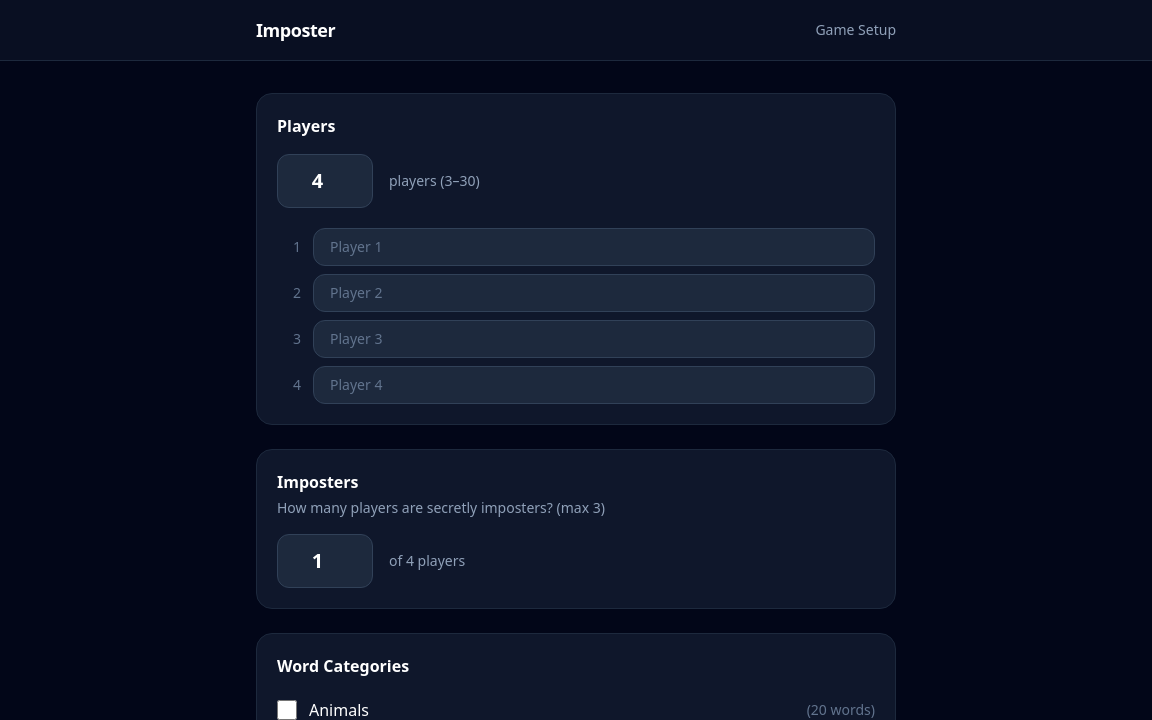
Game Setup Page › Start Game is disabled when player count is below 3
The image size is (1152, 720).
Step 1. Click the checkbox labelled "Animals (20 words)" → (287, 710), box [277,700,297,719]
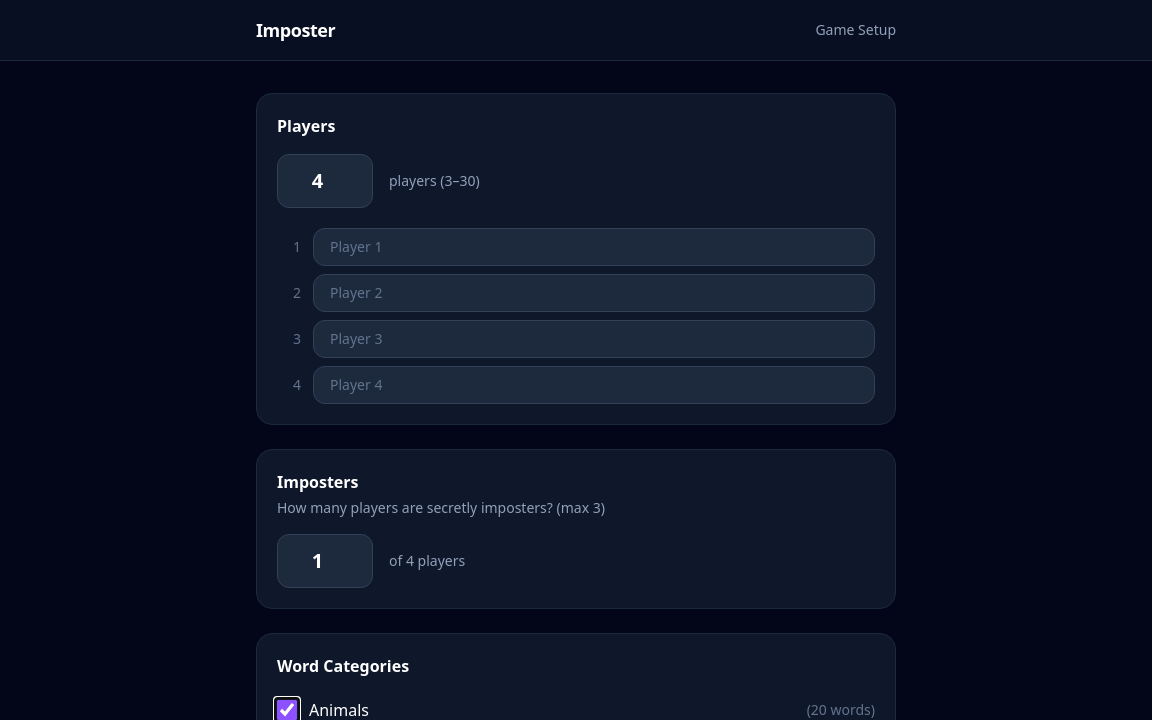
// Drop player count below minimum via fireEvent (more reliable for number inputs)
Step 2. Replace the text in the number field named "Number of players" with "2" → (325, 181), box [277,154,373,208]
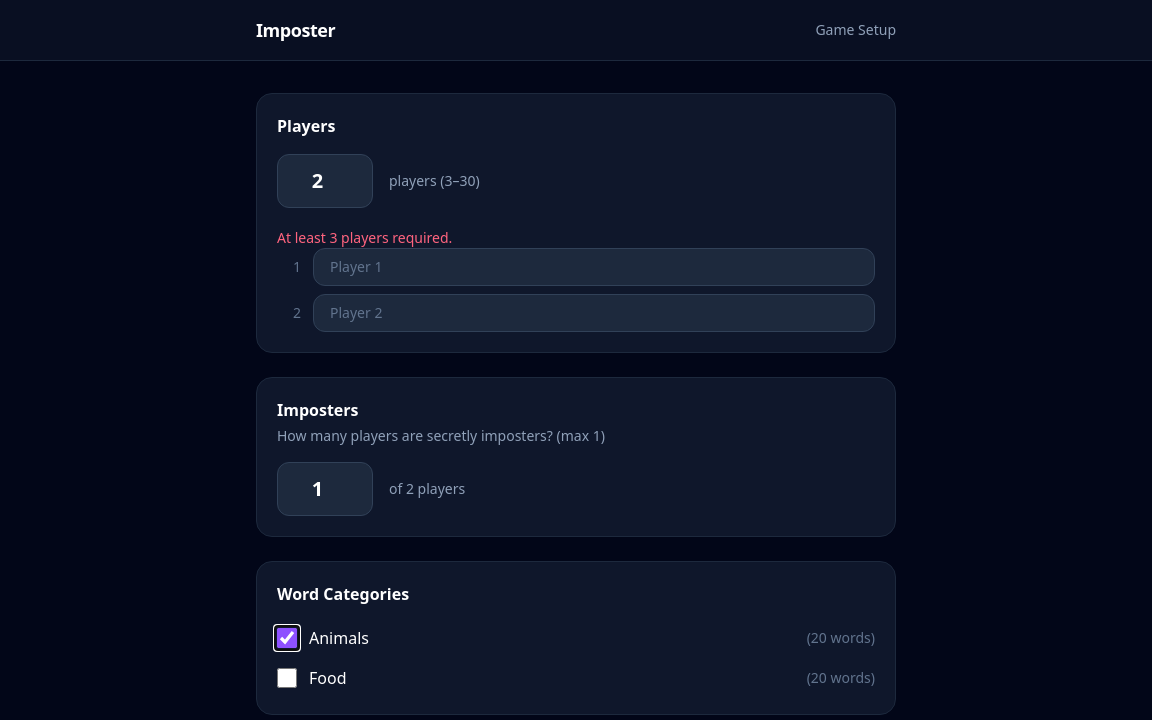
Expected: the message reads "At least 3 players required.", [277,228,452,247]
